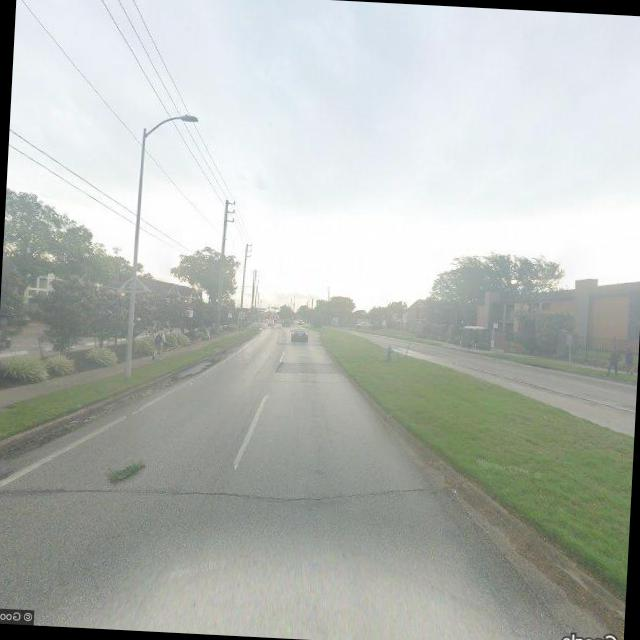crack: (0, 452, 467, 530)
